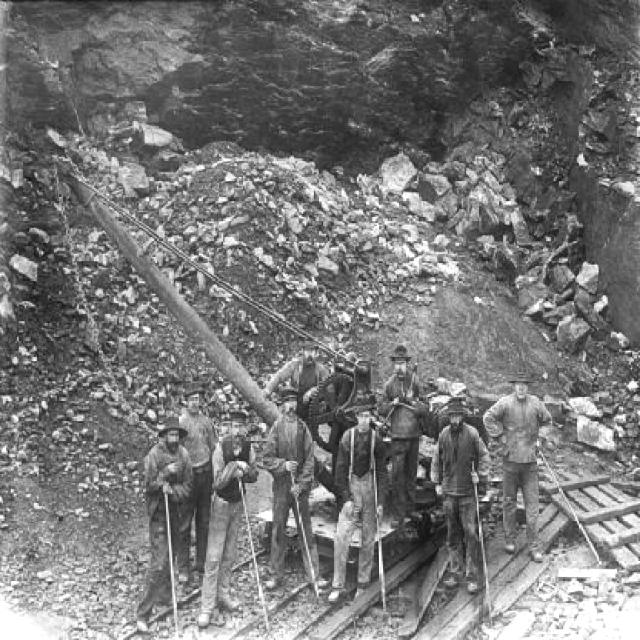Person: (202, 403, 260, 628), (485, 368, 549, 564), (334, 394, 390, 602), (265, 402, 323, 602), (432, 403, 488, 594), (377, 354, 429, 532), (173, 392, 215, 566), (257, 331, 328, 409)
